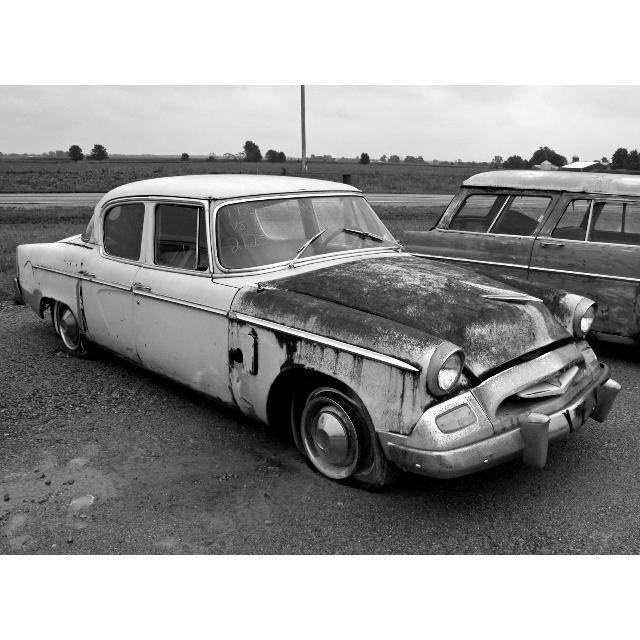fender-dent: (236, 290, 444, 406)
front-bumper-dent: (475, 367, 611, 461)
